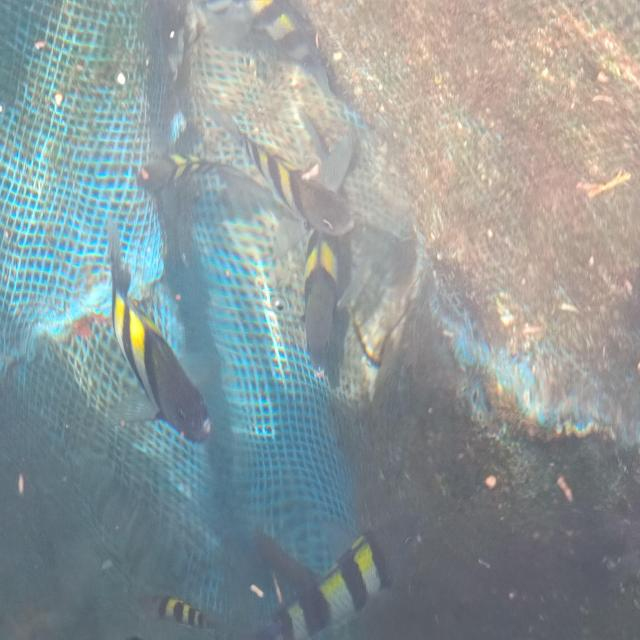ikan: (143, 527, 391, 638), (105, 214, 212, 444), (242, 128, 356, 239), (302, 230, 341, 375)
